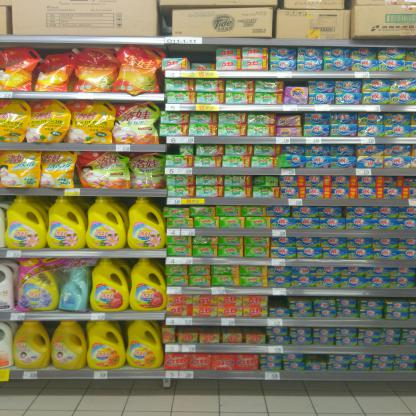Void: (193, 46, 213, 63), (165, 44, 187, 58), (287, 77, 308, 87), (270, 298, 286, 308), (306, 354, 326, 362)
